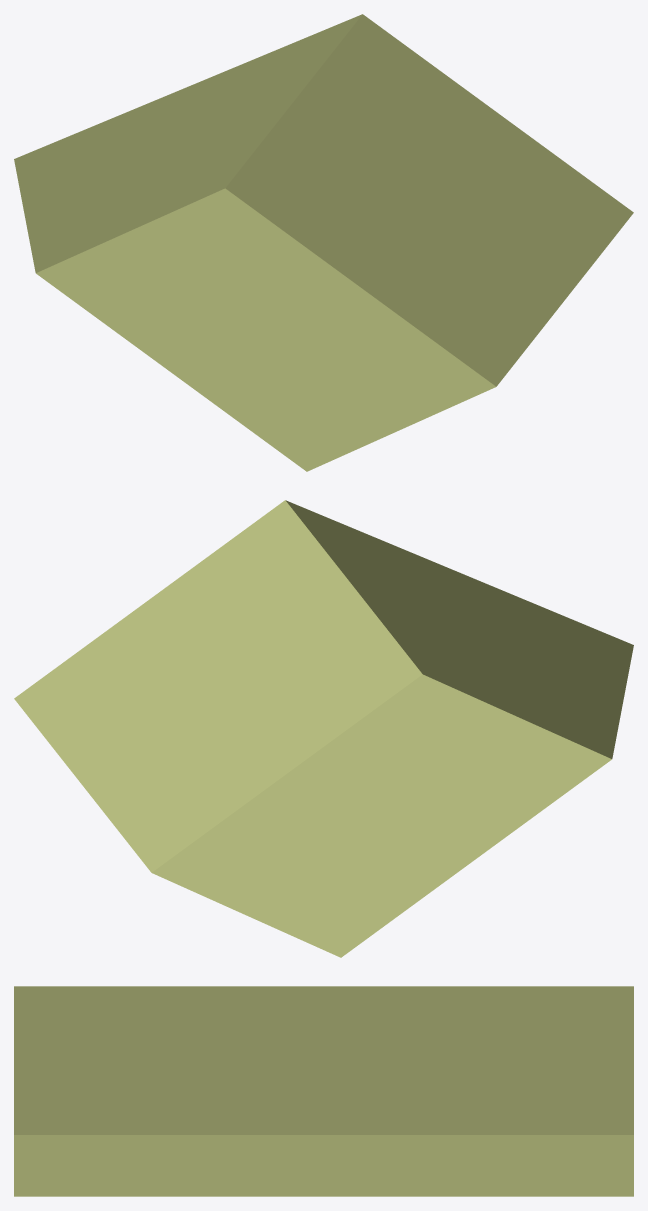
3 views of the same model, one above another, from view 1: azimuth 30°, elevation 25°; view 2: azimuth 150°, elevation 25°; view 3: azimuth 270°, elevation 25° (orthographic). The views are drawn at different scales.
Parts seen in each view (by area): view 1: 0_0_1_3_2_2_2_1_2_0_1; view 2: 0_0_1_3_2_2_2_1_2_0_1; view 3: 0_0_1_3_2_2_2_1_2_0_1.
Boxes of the visible parts, left/top/right/bottom form: 0_0_1_3_2_2_2_1_2_0_1: left=14, top=14, right=633, bottom=471; 0_0_1_3_2_2_2_1_2_0_1: left=14, top=500, right=633, bottom=957; 0_0_1_3_2_2_2_1_2_0_1: left=14, top=986, right=633, bottom=1196.
Bounding box in the file's own units: 6.68 × 3.29 × 9.
